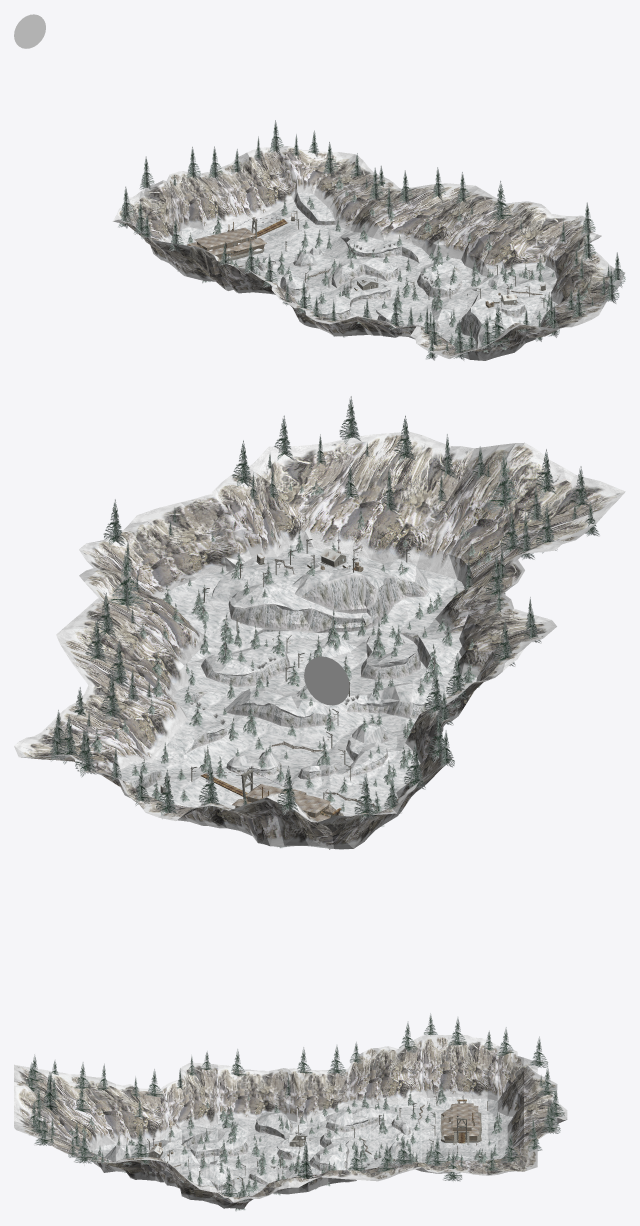
File: recovered_map_mp1.glb
3 renders of one model, top to bottom at view 1: azimuth 30°, elevation 25°; view 2: azimuth 150°, elevation 25°; view 3: azimuth 270°, elevation 25°, orthographic. The views are drawn at different scales.
Parts seen in each view (by area): view 1: W_alaska4d_mountians02, W_alaska4d_snow02, W_alaska4d_treelimb01, W_alaska4d_mountians, W_alaska4d_roof03, W_alaska4d_lightbulb, W_alaska4d_dredgewood04; view 2: W_alaska4d_mountians02, W_alaska4d_snow02, W_alaska4d_treelimb01, W_alaska4d_mountians, W_alaska4d_lightbulb, W_alaska4d_roof03, W_alaska4d_dredgewood04, W_alaska4d_treebark; view 3: W_alaska4d_mountians02, W_alaska4d_snow02, W_alaska4d_treelimb01, W_alaska4d_mountians, W_alaska4d_roof03, W_alaska4d_dredgewood04, W_alaska4d_woodpanels01.
Boxes of the visible parts, left/top/right/bottom form: W_alaska4d_mountians02: left=113, top=146, right=624, bottom=360; W_alaska4d_snow02: left=177, top=192, right=557, bottom=348; W_alaska4d_treelimb01: left=118, top=120, right=625, bottom=360; W_alaska4d_mountians: left=258, top=192, right=525, bottom=348; W_alaska4d_roof03: left=187, top=213, right=545, bottom=298; W_alaska4d_lightbulb: left=14, top=14, right=45, bottom=48; W_alaska4d_dredgewood04: left=187, top=210, right=544, bottom=330; W_alaska4d_mountians02: left=14, top=431, right=625, bottom=848; W_alaska4d_snow02: left=117, top=538, right=476, bottom=849; W_alaska4d_treelimb01: left=49, top=396, right=599, bottom=848; W_alaska4d_mountians: left=126, top=559, right=439, bottom=790; W_alaska4d_lightbulb: left=304, top=656, right=349, bottom=705; W_alaska4d_roof03: left=160, top=535, right=340, bottom=821; W_alaska4d_dredgewood04: left=164, top=539, right=411, bottom=849; W_alaska4d_treebark: left=96, top=482, right=488, bottom=813; W_alaska4d_mountians02: left=14, top=1035, right=567, bottom=1209; W_alaska4d_snow02: left=94, top=1096, right=512, bottom=1196; W_alaska4d_treelimb01: left=25, top=1013, right=564, bottom=1211; W_alaska4d_mountians: left=182, top=1117, right=416, bottom=1190; W_alaska4d_roof03: left=152, top=1103, right=480, bottom=1155; W_alaska4d_dredgewood04: left=118, top=1095, right=487, bottom=1193; W_alaska4d_woodpanels01: left=148, top=1112, right=483, bottom=1158.
Size of what is drawn, in the model's own units: 267 by 138 by 384.
66 materials, 66 textured.
